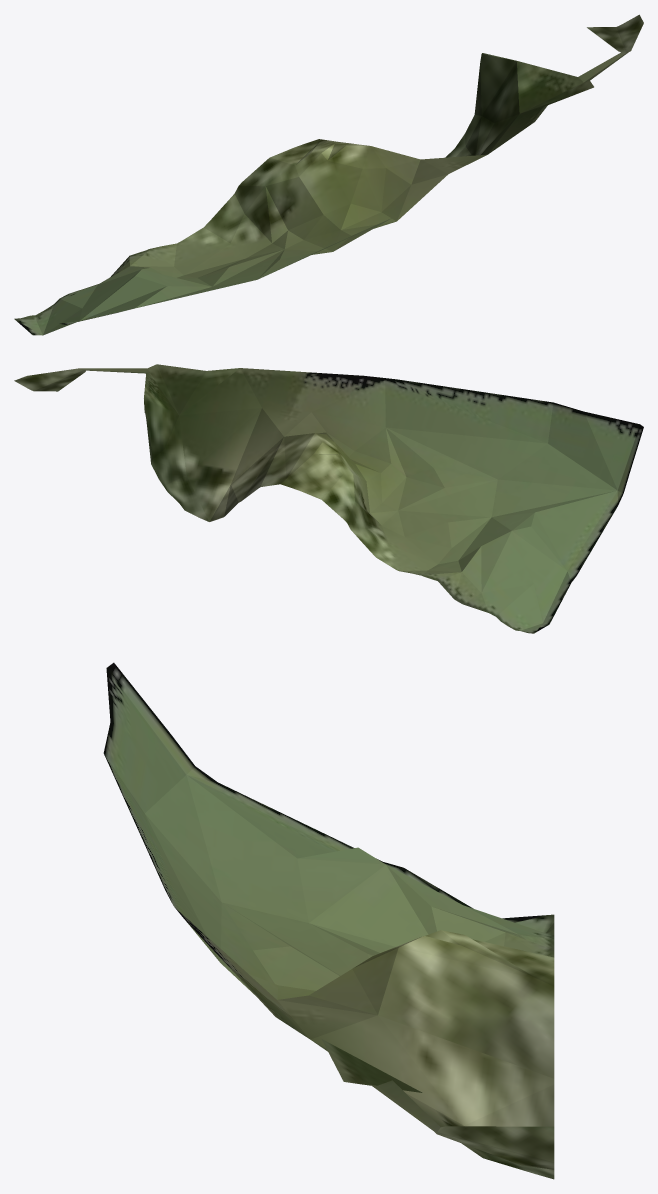
The picture shows the model from 3 angles, top to bottom: view 1: azimuth 30°, elevation 25°; view 2: azimuth 150°, elevation 25°; view 3: azimuth 270°, elevation 25°; orthographic projection. The views are drawn at different scales.
Bounding box in the file's own units: 5.04 × 1.2 × 1.89.
Materials: 1 (1 with a texture image).
